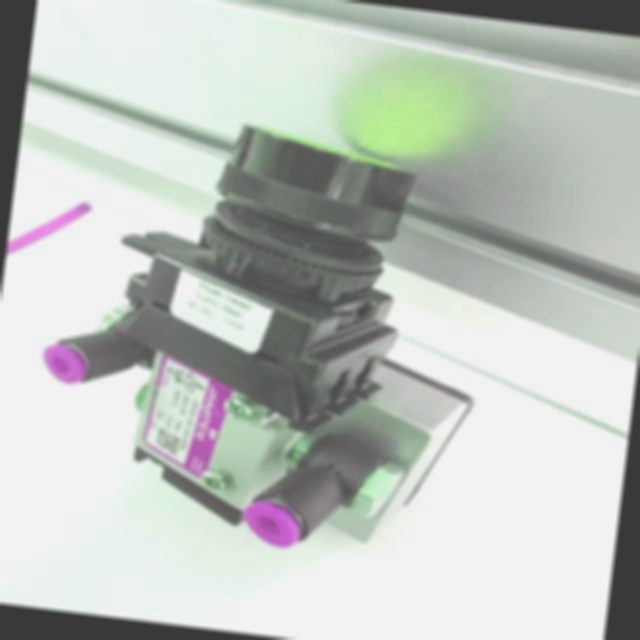push button: (22, 101, 505, 568)
